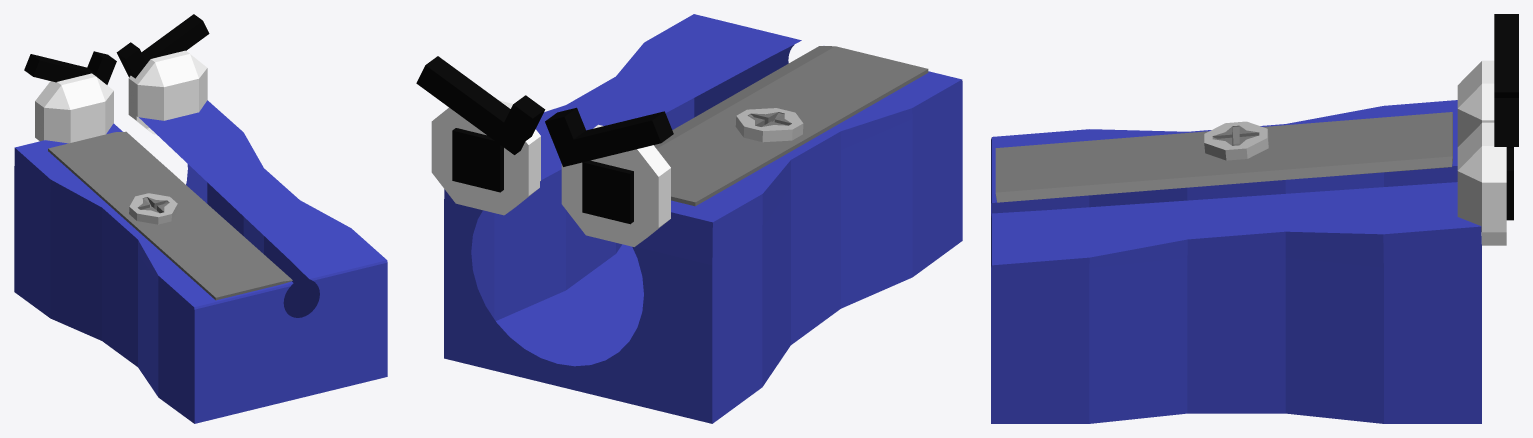
The model's file is Sharpener.fbx.
The picture shows the model from 3 angles, left to right: view 1: azimuth 30°, elevation 25°; view 2: azimuth 150°, elevation 25°; view 3: azimuth 270°, elevation 25°; orthographic projection. The views are drawn at different scales.
Visible parts, largest first — view 1: Sharp; view 2: Sharp; view 3: Sharp.
Boxes of the visible parts, bbox=[...] form: Sharp: bbox=[14, 14, 387, 423]; Sharp: bbox=[416, 14, 962, 423]; Sharp: bbox=[991, 14, 1518, 423].
Size of the model in its own units: 215 by 128 by 135.
1 material, 1 textured.
